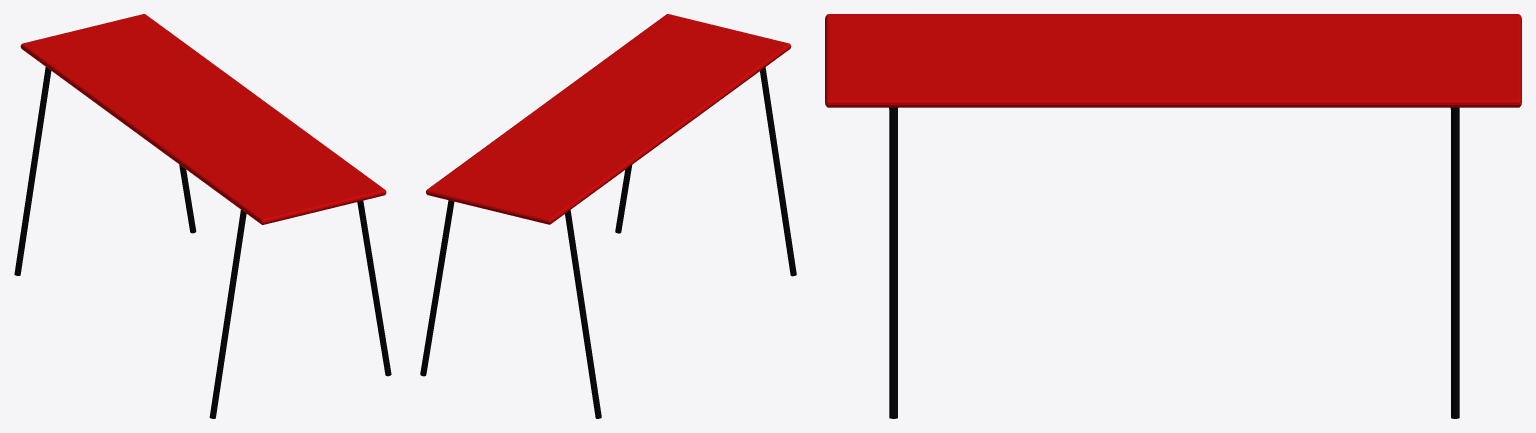
File: Table_Center.dae
3 views of the same model, side by side, from view 1: azimuth 30°, elevation 25°; view 2: azimuth 150°, elevation 25°; view 3: azimuth 270°, elevation 25° (orthographic). The views are drawn at different scales.
Parts seen in each view (by area): view 1: Table_Center, Table_Leg1; view 2: Table_Center, Table_Leg1; view 3: Table_Center, Table_Leg1.
Boxes of the visible parts, x1=… form: Table_Center: x1=20, y1=14, x2=386, y2=224; Table_Leg1: x1=14, y1=67, x2=391, y2=418; Table_Center: x1=426, y1=14, x2=791, y2=224; Table_Leg1: x1=420, y1=67, x2=796, y2=418; Table_Center: x1=825, y1=14, x2=1521, y2=107; Table_Leg1: x1=889, y1=107, x2=1459, y2=418.
Bounding box in the file's own units: 11.62 × 12.82 × 26.93.
